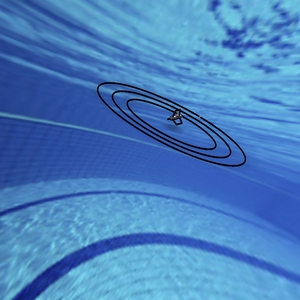circle: (88, 69, 259, 196)
submarine: (161, 103, 189, 132)
